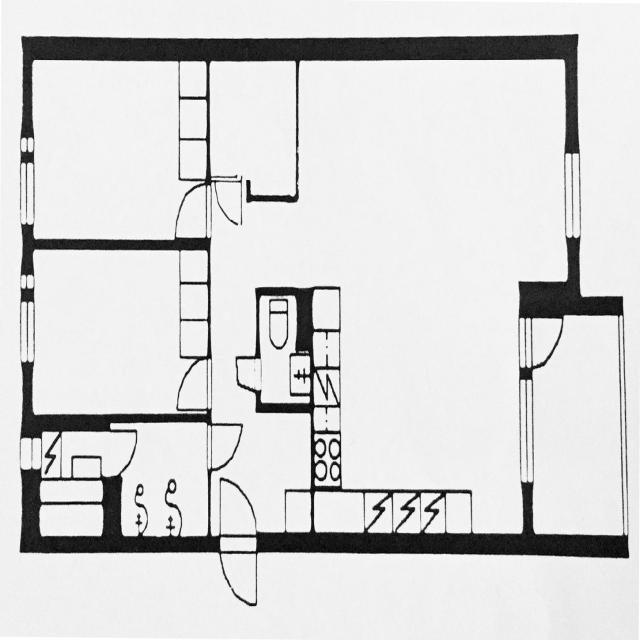door: (214, 471, 263, 609), (170, 348, 217, 413), (169, 175, 211, 239), (201, 415, 246, 473), (99, 420, 143, 479), (522, 309, 566, 368), (209, 169, 248, 230), (231, 349, 265, 395)
window: (560, 139, 585, 251), (15, 127, 40, 238), (16, 266, 40, 374), (517, 375, 536, 491), (16, 426, 38, 478)
zone: (309, 52, 528, 544), (26, 50, 205, 244), (26, 241, 209, 419), (527, 298, 624, 550), (206, 53, 298, 201), (113, 417, 210, 541), (257, 290, 312, 409), (37, 425, 114, 500)
